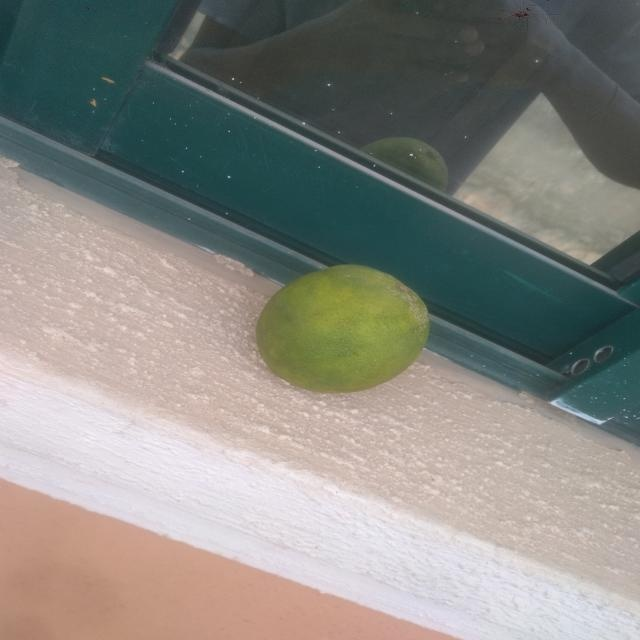agrume: (244, 255, 431, 403)
